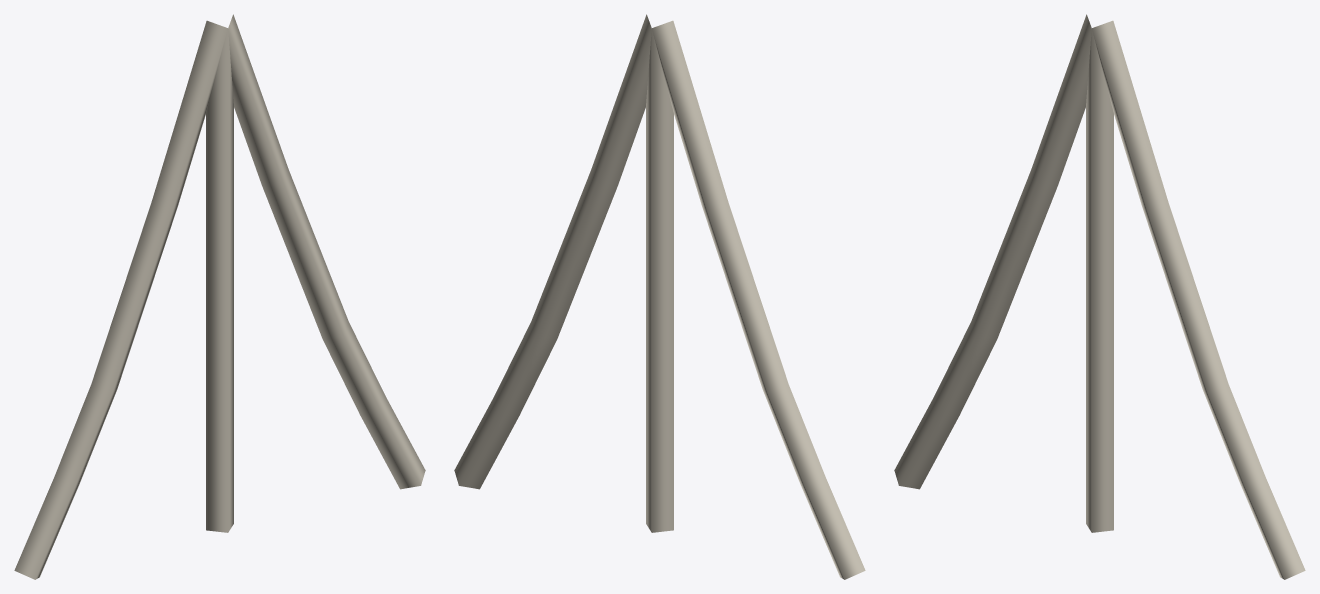
The model's file is roots.glb.
3 views of the same model, side by side, from view 1: azimuth 30°, elevation 25°; view 2: azimuth 150°, elevation 25°; view 3: azimuth 330°, elevation 25° (orthographic).
Parts seen in each view (by area): view 1: roots; view 2: roots; view 3: roots.
Part boxes in pixels (x1,y1,x2,y2): roots: (14, 14, 425, 579); roots: (454, 14, 865, 579); roots: (894, 14, 1305, 579).
Bounding box in the file's own units: 0.2879 × 0.3451 × 0.0198.
